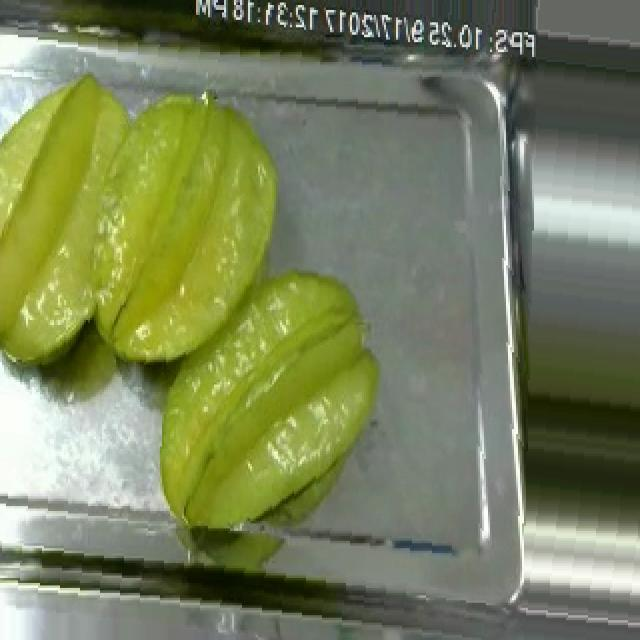fruit: (0, 47, 320, 385), (144, 250, 394, 546)
